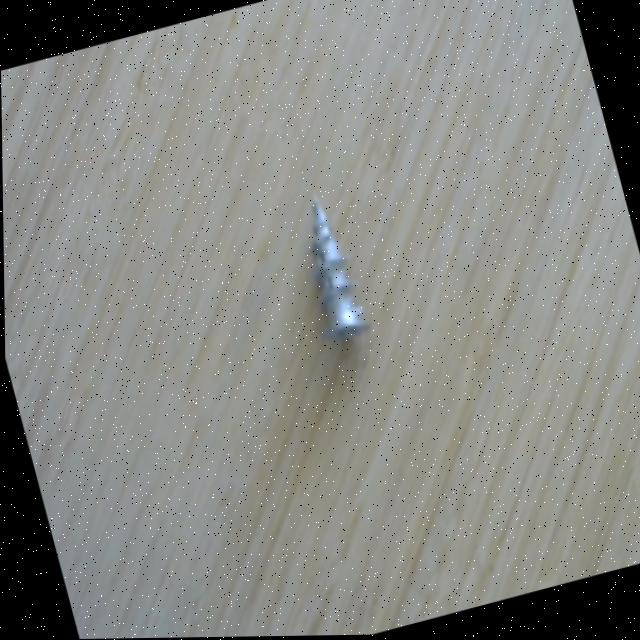Short screw: (299, 186, 379, 352)
